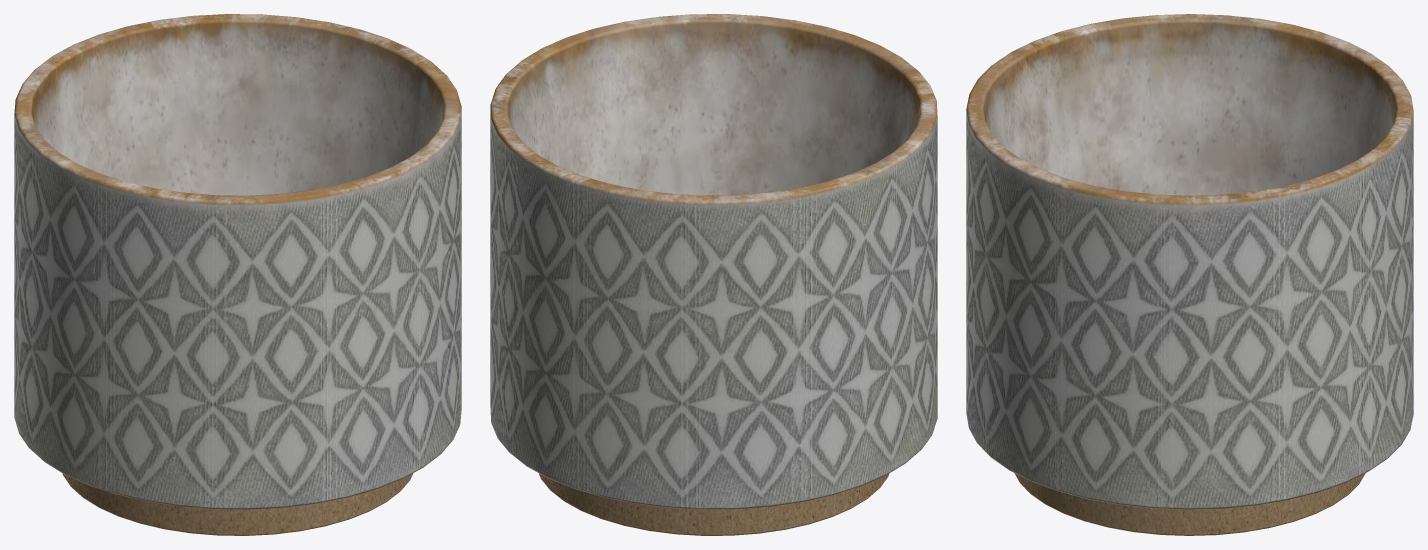
File: B075HX7JFC.glb
3 views of the same model, side by side, from view 1: azimuth 30°, elevation 25°; view 2: azimuth 150°, elevation 25°; view 3: azimuth 270°, elevation 25° (orthographic).
Parts seen in each view (by area): view 1: RootNode; view 2: RootNode; view 3: RootNode.
Boxes of the visible parts, box(x1,y1,x2,y2) form: RootNode: box(14, 14, 461, 535); RootNode: box(490, 14, 937, 535); RootNode: box(966, 14, 1413, 535).
Bounding box in the file's own units: 0.2546 × 0.2227 × 0.2546.
1 material, 1 textured.
